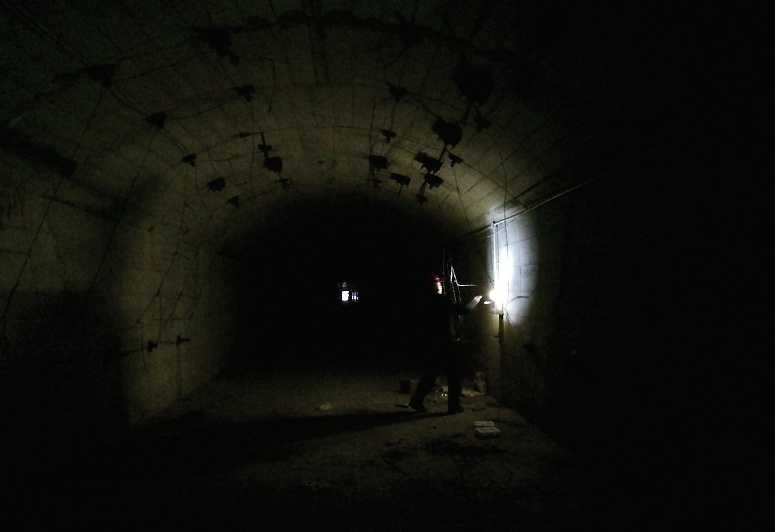person: (418, 277, 496, 417)
